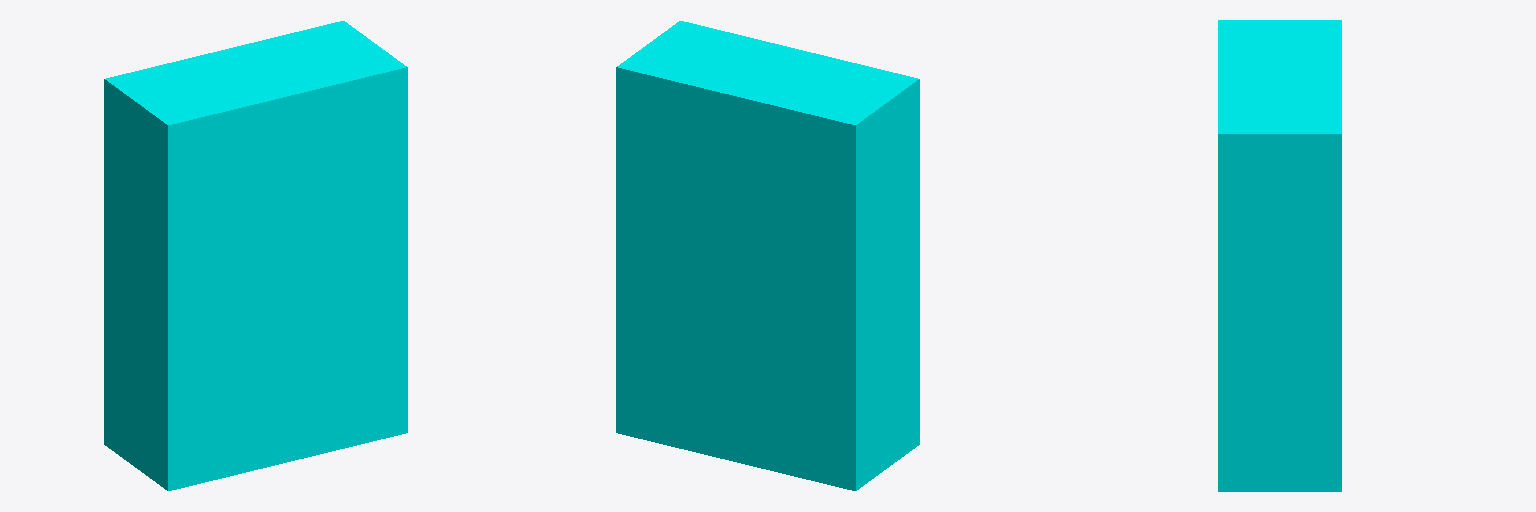
robot.urdf — cereales:
<?xml version="1.0"?>

<robot name="cereales">

<link name="world" />

<joint name="cereales" type="floating">
  <parent link="world"/>
  <child link="cereales_link"/>
  <origin xyz="0 0 0" rpy="0 0 0" />
</joint>

<link name="cereales_link">
  <visual>
    <geometry>
      <box size="0.13 0.06 0.19" />   
    </geometry>
    <origin rpy="0 0 0" xyz="0 0 0.095" />
    <material name="yellow">
      <color rgba="0 1 1 1" />
    </material>
  </visual>
  <collision>
    <origin rpy="0 0 0" xyz="0 0 0.095" />
    <geometry>
      <box size="0.13 0.06 0.19" />   
    </geometry>
  </collision>
  <inertial>
    <origin rpy="0 0 0" xyz="0 0 0.0995" />
    <mass value="0.01" />
      <inertia ixx="0.001" ixy="0.0" ixz="0.0" iyy="0.001" iyz="0.0" izz="0.001"/>  
  </inertial>
</link>

<gazebo reference="cereales_link">
  <material>objetos_fer/Grahams</material>
  <mu1>0.9</mu1>
  <mu2>0.9</mu2>
  <selfCollide>true</selfCollide>
  <turnGravityOff>false</turnGravityOff>  
</gazebo>

</robot>

--- Facts derived from the render (not from the file) ---
The picture shows the robot from 3 angles, left to right: view 1: azimuth 30°, elevation 25°; view 2: azimuth 150°, elevation 25°; view 3: azimuth 270°, elevation 25°; orthographic projection.
Robot: cereales — 2 links, 1 joints (1 floating); root link world; default pose: every joint at zero.
Links seen in each view (by area): view 1: cereales_link; view 2: cereales_link; view 3: cereales_link.
Boxes of the visible links, left/top/right/bottom form: cereales_link: left=104, top=21, right=407, bottom=490; cereales_link: left=616, top=21, right=919, bottom=490; cereales_link: left=1218, top=20, right=1341, bottom=491.
Size in the robot's own frame: 0.13 by 0.06 by 0.19 metres.
Geometry: primitives only (box / cylinder / sphere), no mesh files.
